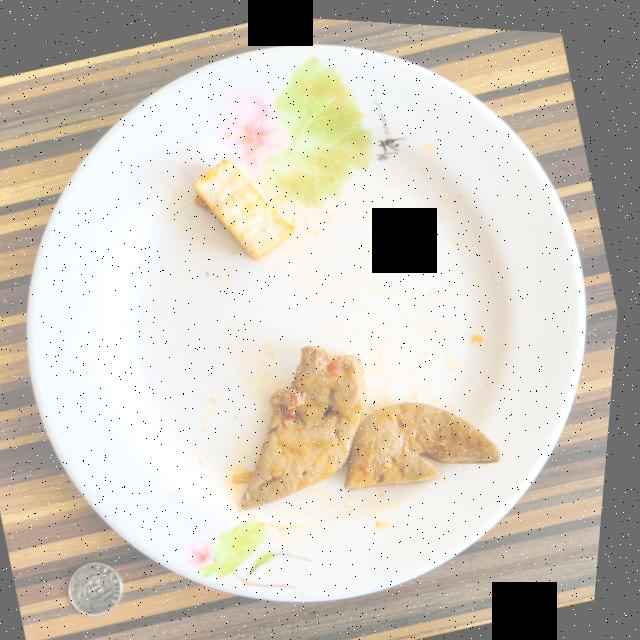coin: (78, 560, 133, 614)
creamy tofu: (196, 156, 298, 257)
pig liver: (248, 341, 507, 505)
